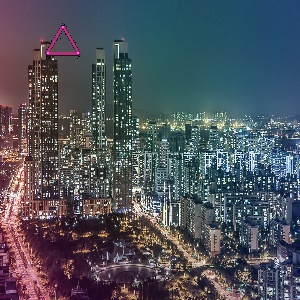triangle: (44, 23, 84, 59)
